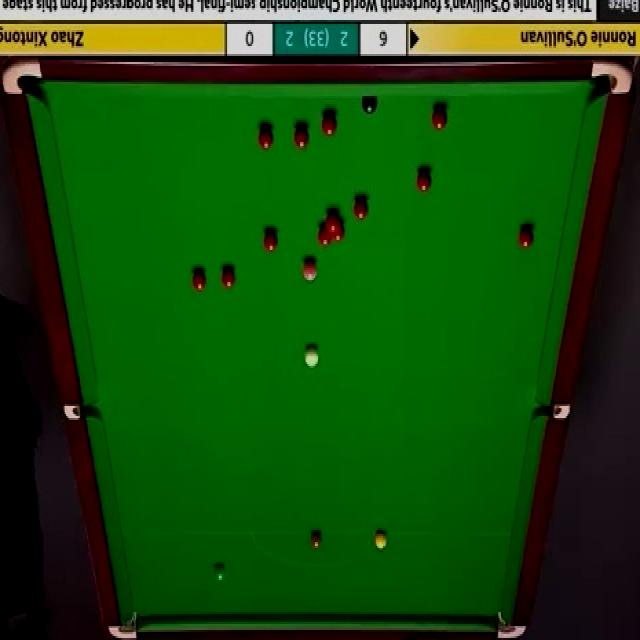black-ball: (361, 95, 378, 114)
brown-ball: (310, 529, 324, 552)
green-ball: (213, 562, 228, 582)
pink-ball: (302, 258, 317, 286)
red-ball: (220, 262, 237, 291), (517, 223, 534, 250), (417, 167, 433, 194), (431, 106, 448, 131), (258, 125, 274, 151), (294, 124, 309, 149), (264, 228, 279, 253), (192, 266, 207, 290), (322, 112, 336, 137), (354, 197, 368, 221), (318, 222, 332, 246), (326, 210, 339, 230), (332, 222, 345, 242)
white-ball: (303, 344, 320, 371)
yellow-ball: (375, 531, 388, 551)
